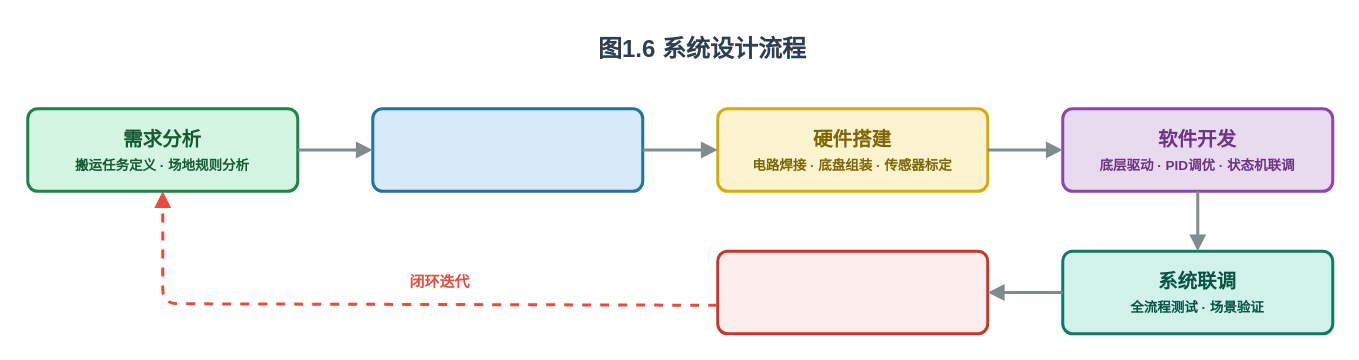
Image size: 1359x360. Some labels were removed from this diagram. Here are the shapes that lost their labels. From the top down, the box of each, then its label:
(370, 106, 644, 192): 系统设计 硬件选型 · 架构分层 · 通信协议
(716, 249, 988, 334): 迭代优化 参数精调 · AI重训 · 从车对接
